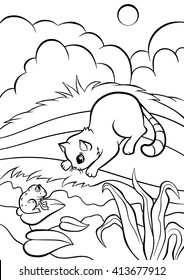animal: (18, 179, 48, 215)
cat: (55, 88, 159, 176)
